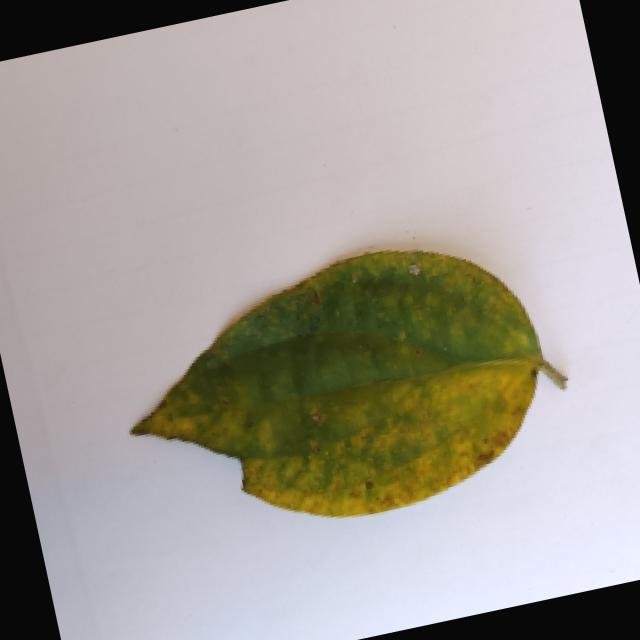slow-decline: (98, 202, 596, 560)
